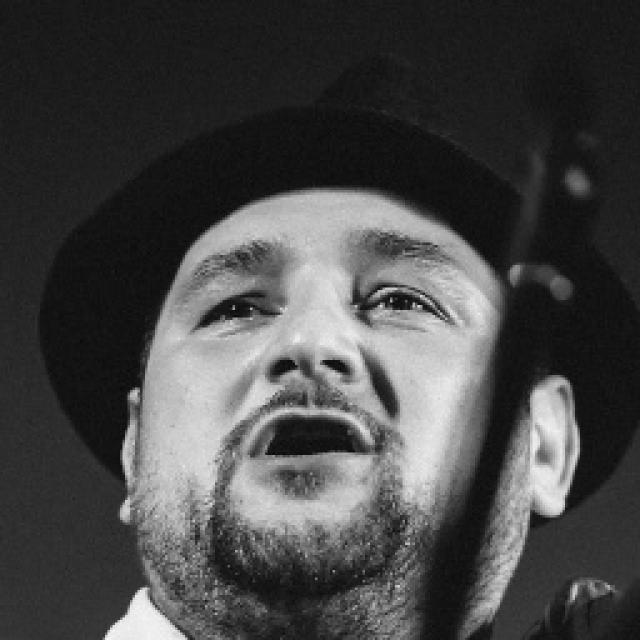no-glasses: (192, 272, 486, 357)
